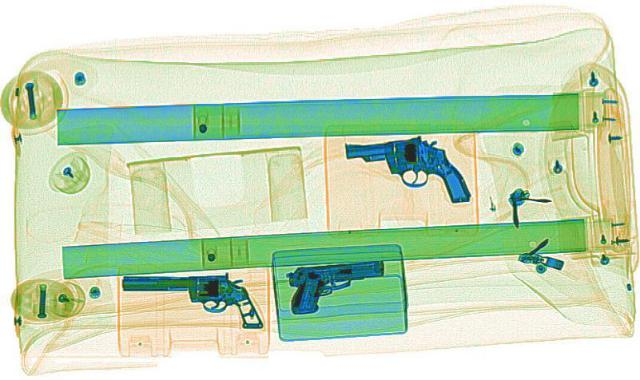Gun: (338, 133, 472, 211), (120, 270, 262, 329), (276, 256, 392, 311)
